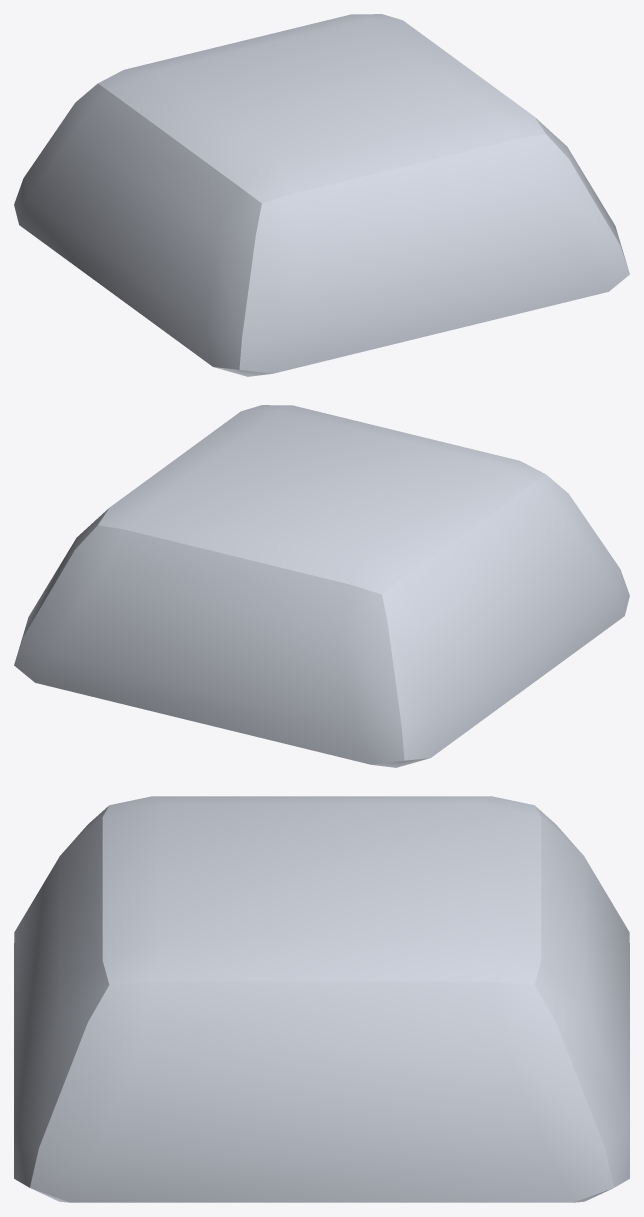
Rendered from Rock_C.fbx.
The picture shows the model from 3 angles, top to bottom: view 1: azimuth 30°, elevation 25°; view 2: azimuth 150°, elevation 25°; view 3: azimuth 270°, elevation 25°; orthographic projection. The views are drawn at different scales.
Parts seen in each view (by area): view 1: Rock_C; view 2: Rock_C; view 3: Rock_C.
Part boxes in pixels (x1,y1,x2,y2): Rock_C: [14, 14, 629, 376]; Rock_C: [14, 405, 629, 767]; Rock_C: [14, 796, 629, 1202].
Bounding box in the file's own units: 164 × 64.72 × 164.
